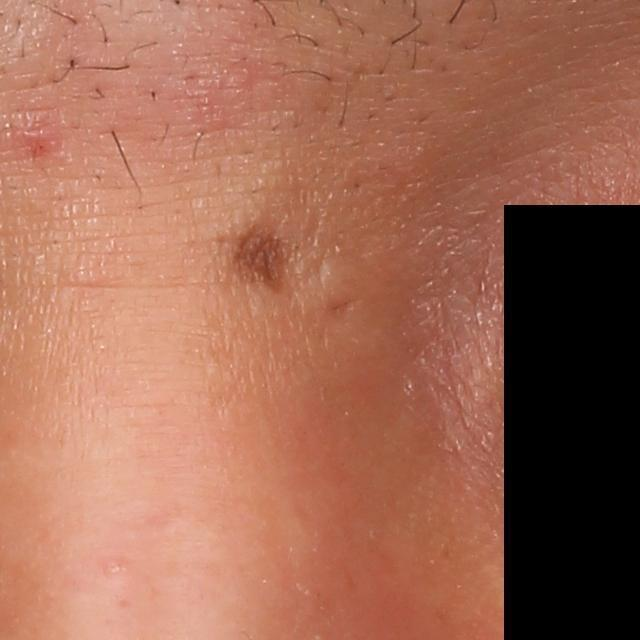atrophic_scar: (322, 292, 354, 322)
nevus: (218, 217, 299, 316)
